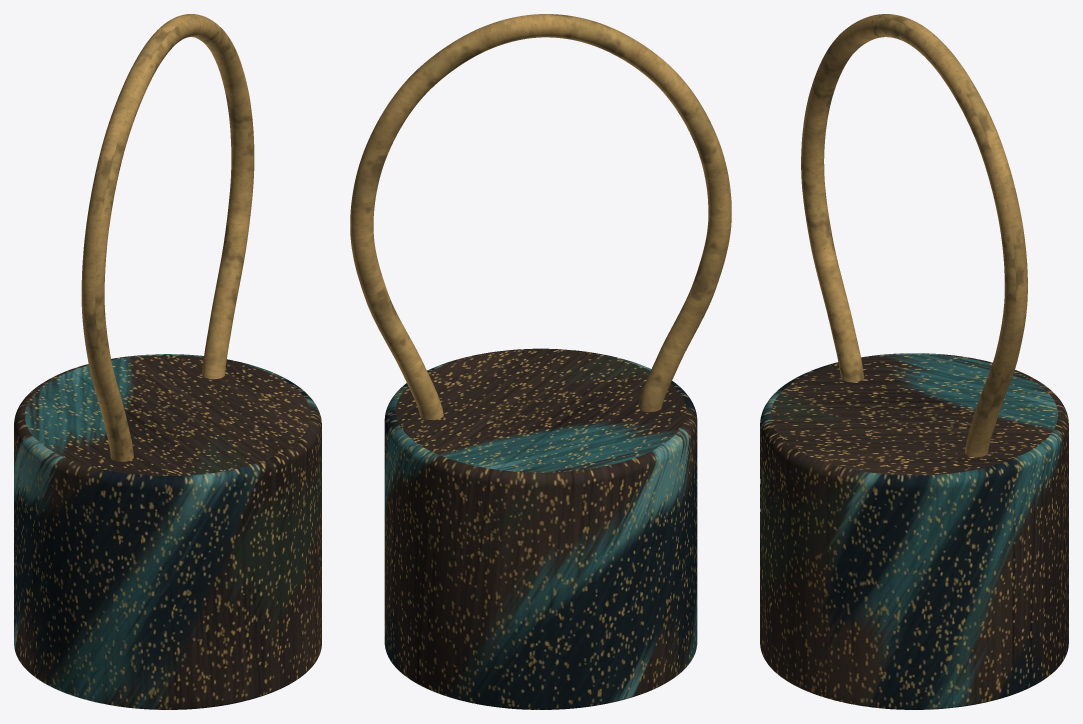
The model's file is rook-black-hd.glb.
3 views of the same model, side by side, from view 1: azimuth 30°, elevation 25°; view 2: azimuth 150°, elevation 25°; view 3: azimuth 270°, elevation 25° (orthographic).
Visible parts, largest first — view 1: Telo, Oblouk; view 2: Telo, Oblouk; view 3: Telo, Oblouk.
Part boxes in pixels (<box>): Telo: <box>14,354,321,709</box>; Oblouk: <box>81,14,254,461</box>; Telo: <box>384,348,697,709</box>; Oblouk: <box>350,14,731,419</box>; Telo: <box>760,353,1068,709</box>; Oblouk: <box>801,14,1027,457</box>.
Size of the model in its own units: 0.6499 by 1.42 by 0.6389.
2 materials, 2 textured.
